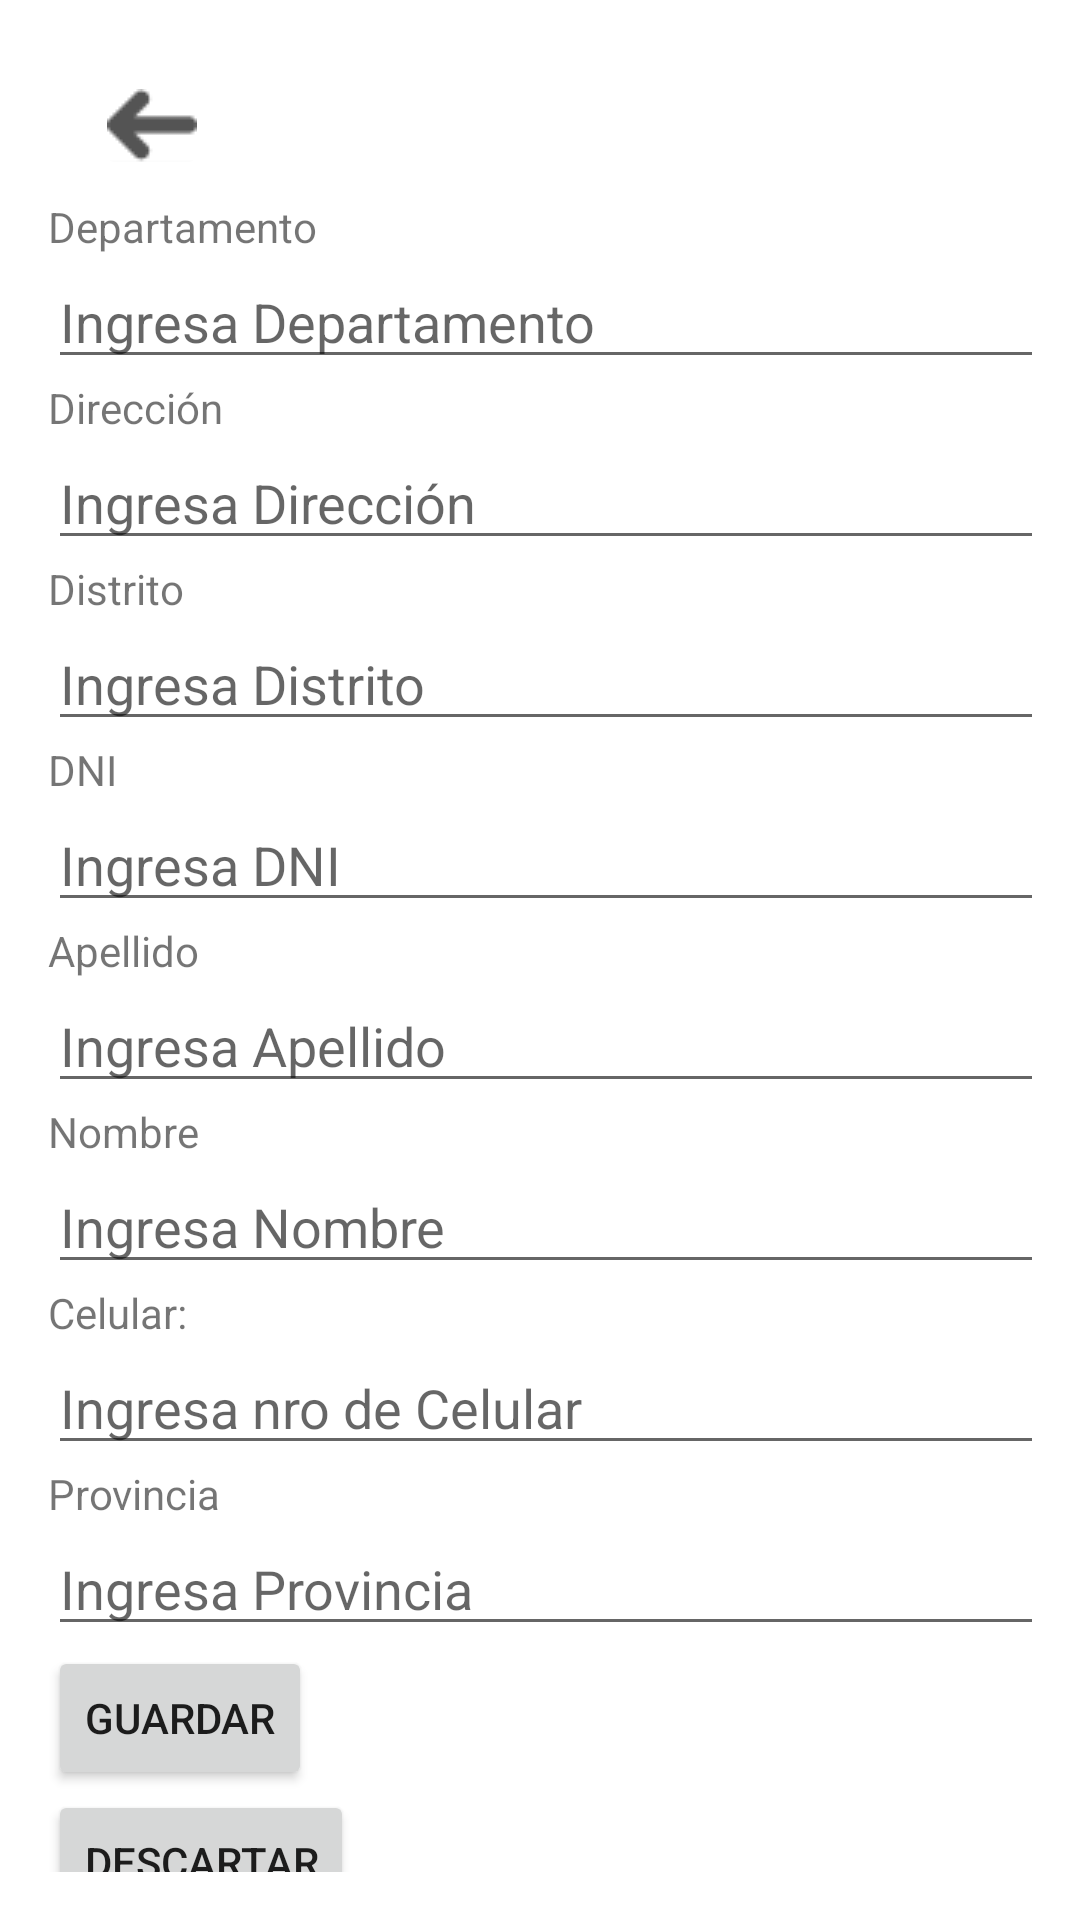

Icons on this 1080px×1920px Android screen, each with its box as (x1, y1, x2, y2):
flecha: (107, 89, 197, 161)
